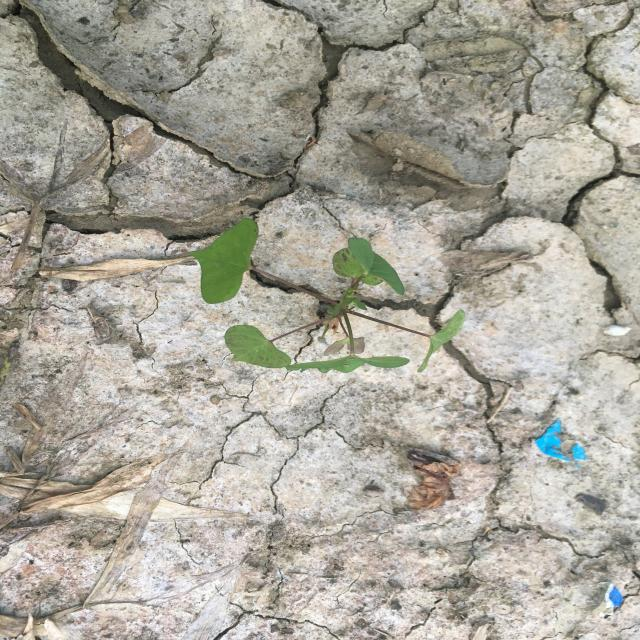MorningGlory: (181, 217, 470, 376)
